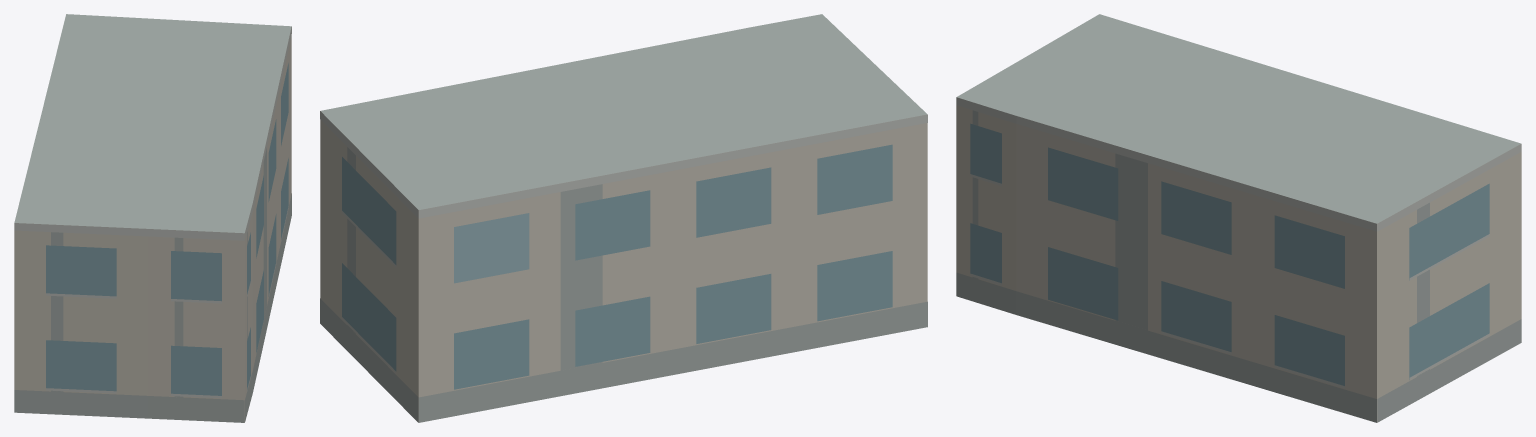
Rendered from survey-upis-32641692.glb.
The picture shows the model from 3 angles, left to right: view 1: azimuth 30°, elevation 25°; view 2: azimuth 150°, elevation 25°; view 3: azimuth 270°, elevation 25°; orthographic projection. The views are drawn at different scales.
Visible parts, largest first — view 1: survey-upis-32641692.tmp; view 2: survey-upis-32641692.tmp; view 3: survey-upis-32641692.tmp.
Boxes of the visible parts, <box> form: survey-upis-32641692.tmp: <box>14,14,291,422</box>; survey-upis-32641692.tmp: <box>320,14,927,422</box>; survey-upis-32641692.tmp: <box>956,14,1521,422</box>.
Size of the model in its own units: 13.8 by 6.1 by 15.7.
